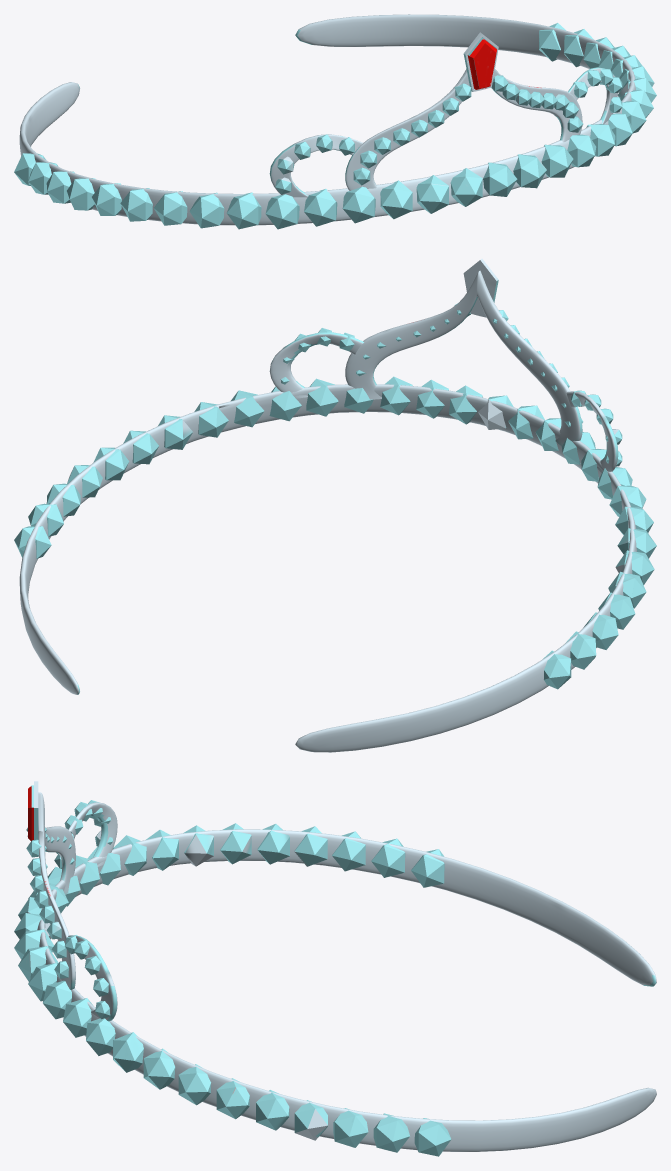
Rendered from korona.fbx.
3 renders of one model, top to bottom at view 1: azimuth 30°, elevation 25°; view 2: azimuth 150°, elevation 25°; view 3: azimuth 270°, elevation 25°, orthographic. The views are drawn at different scales.
Parts seen in each view (by area): view 1: korona; view 2: korona; view 3: korona.
Part boxes in pixels (x1,y1,x2,y2): korona: (14, 14, 656, 229); korona: (14, 258, 656, 752); korona: (14, 781, 656, 1156).
Size of the model in its own units: 50.43 by 21.36 by 46.59.
